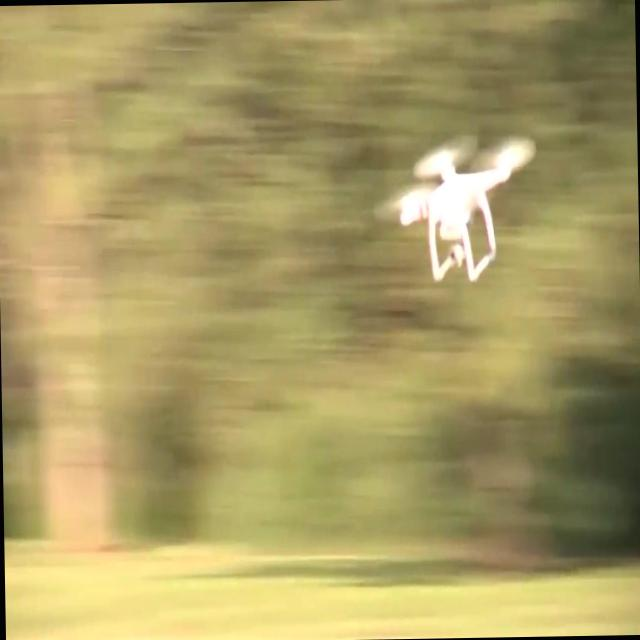drone: (391, 135, 531, 289)
